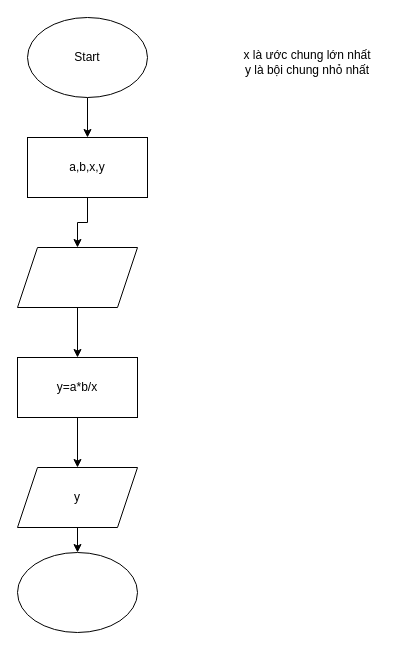
Some shapes in this 395 by 650 pixel diagram are drawn without their labels. The shapes that lost their labels are listed below. From the top down, each one's centre as x and y in pixels, then its label:
At point 77,277: "a,b,x".
At point 77,592: "End".
